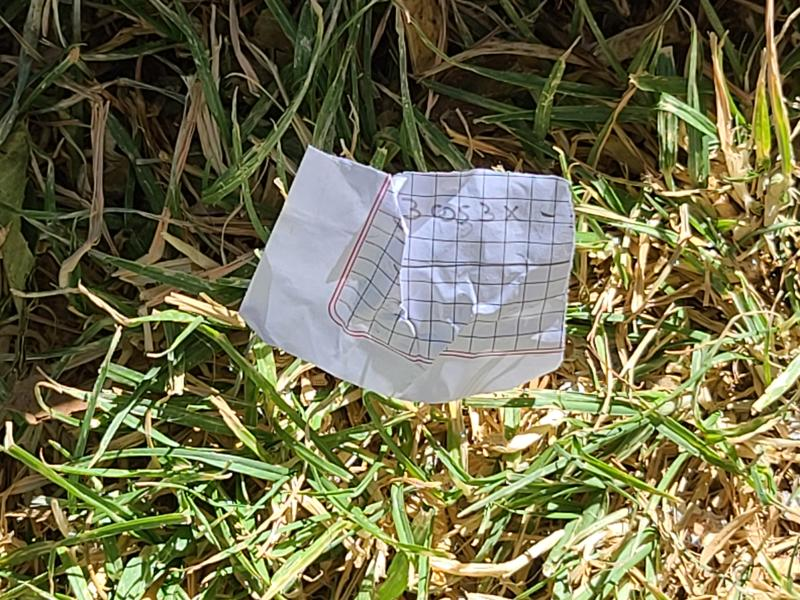papel: (239, 148, 577, 406)
